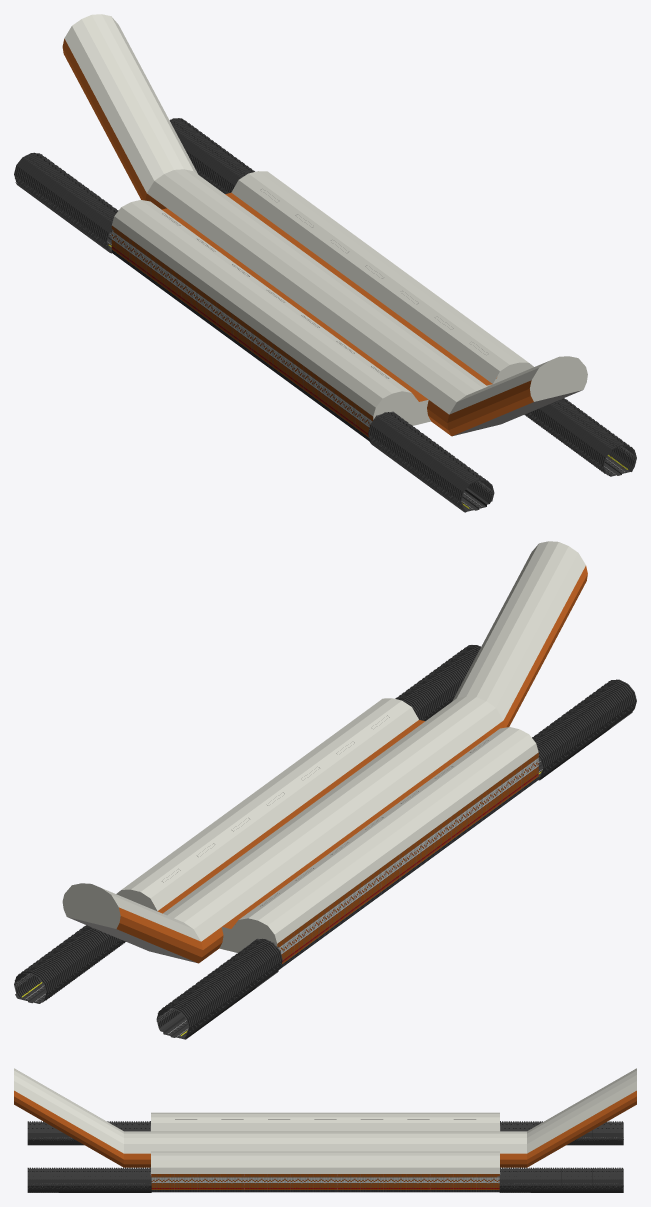
Rendered from stantion1.fbx.
3 renders of one model, top to bottom at view 1: azimuth 30°, elevation 25°; view 2: azimuth 150°, elevation 25°; view 3: azimuth 270°, elevation 25°, orthographic. The views are drawn at different scales.
Visible parts, largest first — view 1: Zavodskai, Tunnel, Tunnel.003; view 2: Zavodskai, Tunnel.003, Tunnel; view 3: Zavodskai, Tunnel, Tunnel.003.
Boxes of the visible parts, left/top/right/bottom form: Zavodskai: left=62, top=14, right=587, bottom=442; Tunnel: left=368, top=398, right=636, bottom=512; Tunnel.003: left=14, top=118, right=254, bottom=253; Zavodskai: left=62, top=541, right=587, bottom=968; Tunnel.003: left=14, top=925, right=282, bottom=1039; Tunnel: left=395, top=645, right=636, bottom=780; Zavodskai: left=14, top=1068, right=636, bottom=1192; Tunnel: left=27, top=1121, right=151, bottom=1192; Tunnel.003: left=499, top=1121, right=623, bottom=1192.
Bounding box in the file's own units: 29.25 × 22.71 × 134.
